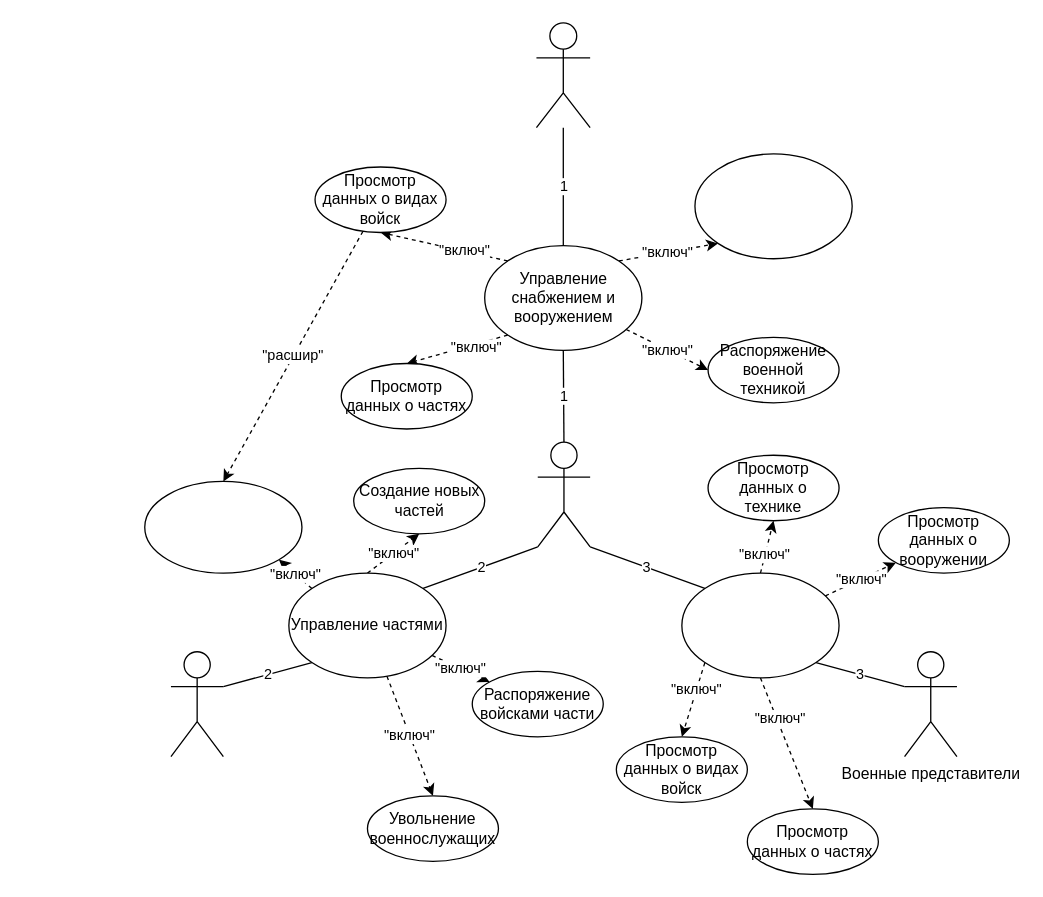
Some shapes in this 1043 by 897 pixel diagram are drawn without their labels. Here are the shapes that lost their labels. From the top down, the centre of each, then its label:
point 562,75: Представитель отдела по снабжению
point 773,206: Снабжение военнослужащих вооружением и питанием
point 563,494: Администратор
point 222,526: Изменение вида войск военнослужащих
point 760,625: Управление информацией
point 196,703: Представитель отдела по управлению частями
